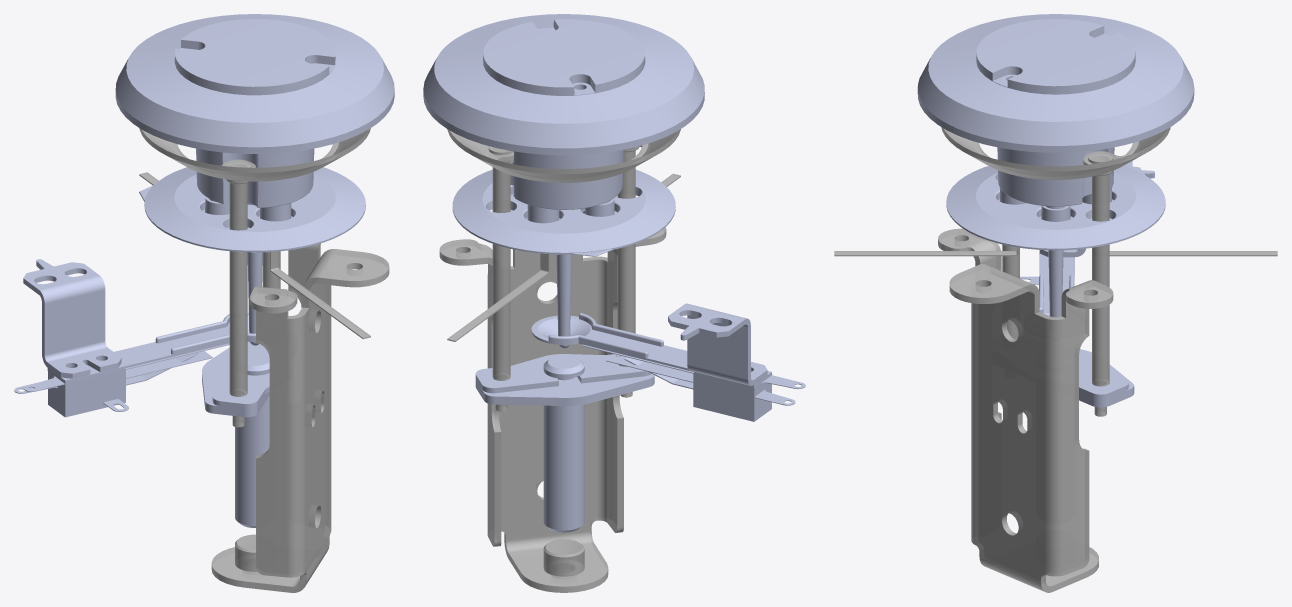
File: Pop Bumper WPC (B-9414).fbx
3 views of the same model, side by side, from view 1: azimuth 30°, elevation 25°; view 2: azimuth 150°, elevation 25°; view 3: azimuth 270°, elevation 25° (orthographic).
Parts seen in each view (by area): view 1: Pop Bumper Cap 03-8254-10, Pop Bumper Bkt, Pop Bumper Skirt - GTB C-10433 D, Pop Bumper Switch Bracket WPC 01-1168, Pop Bumper body 03-7443-5, Pop Bumper shaft, Pop Bumper Plunger 02-3406-1, Pop Bumper Ring, Pop Bumper Spoon, Pop Bumper Switch Spacer .100 (×3), Pop Bumper Yoke Fiber 01-5493, Pop Bumper Yoke 01-5492 (+4 smaller); view 2: Pop Bumper Cap 03-8254-10, Pop Bumper Bkt, Pop Bumper Skirt - GTB C-10433 D, Pop Bumper Plunger 02-3406-1, Pop Bumper shaft (×2), Pop Bumper Switch Bracket WPC 01-1168, Pop Bumper body 03-7443-5, Pop Bumper Spoon, Pop Bumper Ring, Pop Bumper Yoke 01-5492, Pop Bumper Yoke Fiber 01-5493, Pop Bumper Switch Spacer .100 (×3) (+4 smaller); view 3: Pop Bumper Bkt, Pop Bumper Cap 03-8254-10, Pop Bumper Skirt - GTB C-10433 D, Pop Bumper body 03-7443-5, Pop Bumper shaft (×2), Pop Bumper Ring, Pop Bumper Socket Leads WPC (×2), Pop Bumper Yoke 01-5492, Pop Bumper Spoon, Pop Bumper Yoke Fiber 01-5493.
Boxes of the visible parts, x1,y1,x2,y2 form: Pop Bumper Cap 03-8254-10: (115,14,394,153); Pop Bumper Bkt: (211,243,389,592); Pop Bumper Skirt - GTB C-10433 D: (139,167,365,345); Pop Bumper Switch Bracket WPC 01-1168: (23,259,121,378); Pop Bumper body 03-7443-5: (196,148,314,221); Pop Bumper shaft: (225,159,251,427); Pop Bumper Plunger 02-3406-1: (235,352,269,527); Pop Bumper Ring: (139,128,370,181); Pop Bumper Spoon: (47,313,255,383); Pop Bumper Switch Spacer .100 (×3): (48,370,125,411); Pop Bumper Yoke Fiber 01-5493: (202,347,269,417); Pop Bumper Yoke 01-5492: (212,341,269,409); Pop Bumper Cap 03-8254-10: (423,14,704,155); Pop Bumper Bkt: (439,227,666,592); Pop Bumper Skirt - GTB C-10433 D: (452,169,675,348); Pop Bumper Plunger 02-3406-1: (543,355,584,532); Pop Bumper shaft (×2): (488,146,639,411); Pop Bumper Switch Bracket WPC 01-1168: (668,303,767,385); Pop Bumper body 03-7443-5: (510,150,623,223); Pop Bumper Spoon: (531,313,772,387); Pop Bumper Ring: (447,129,680,182); Pop Bumper Yoke 01-5492: (475,354,651,393); Pop Bumper Yoke Fiber 01-5493: (475,373,654,405); Pop Bumper Switch Spacer .100 (×3): (693,373,771,415); Pop Bumper Bkt: (938,228,1113,592); Pop Bumper Cap 03-8254-10: (917,14,1194,152); Pop Bumper Skirt - GTB C-10433 D: (946,165,1165,317); Pop Bumper body 03-7443-5: (997,147,1114,208); Pop Bumper shaft (×2): (1002,151,1113,416); Pop Bumper Ring: (941,127,1170,179); Pop Bumper Socket Leads WPC (×2): (834,247,1277,256); Pop Bumper Yoke 01-5492: (1079,360,1128,399); Pop Bumper Spoon: (1039,253,1074,315); Pop Bumper Yoke Fiber 01-5493: (1079,349,1134,407).
Bounding box in the file's own units: 11.18 × 15.69 × 12.21.
